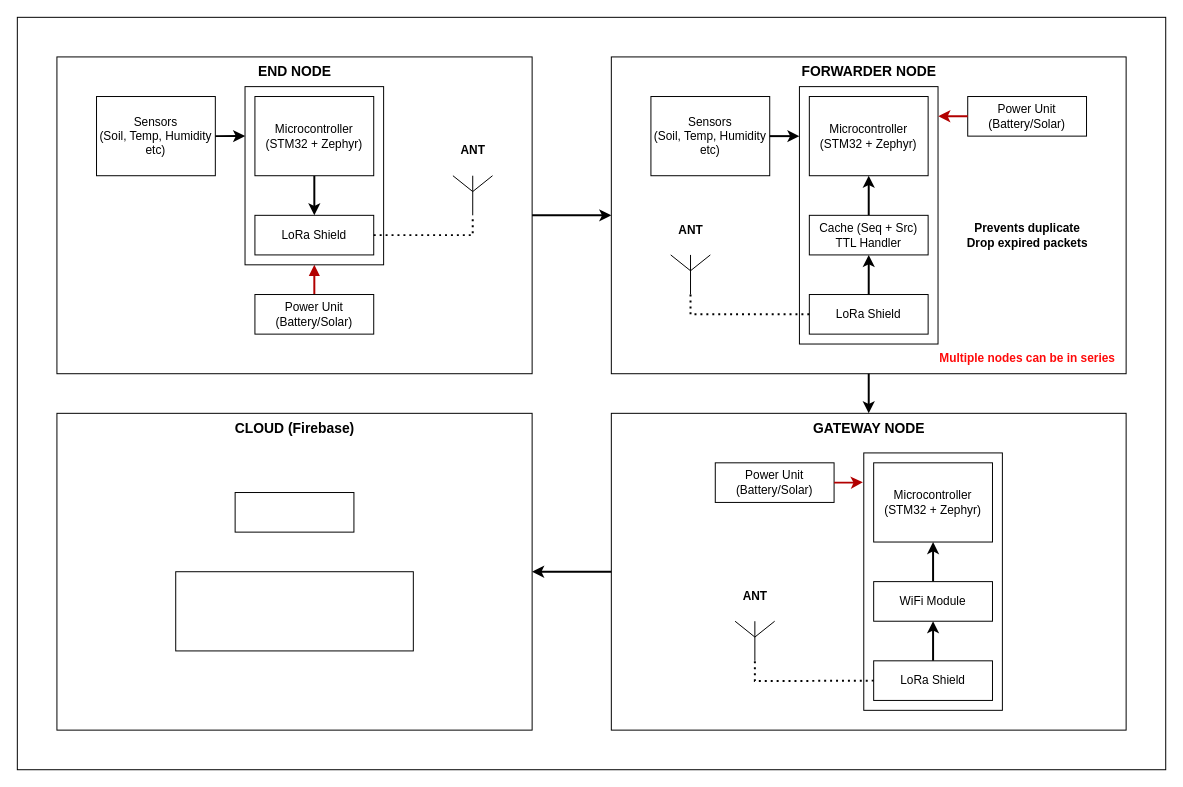
This 1183x787 diagram has some shape labels left out. Here are the shapes that lost their labels. From the top down, the centre of each, then its label:
At point (294, 512): "Realtime Database".
At point (294, 611): "Dashboard / Visualization Displays live sensor data, trends, alerts".
